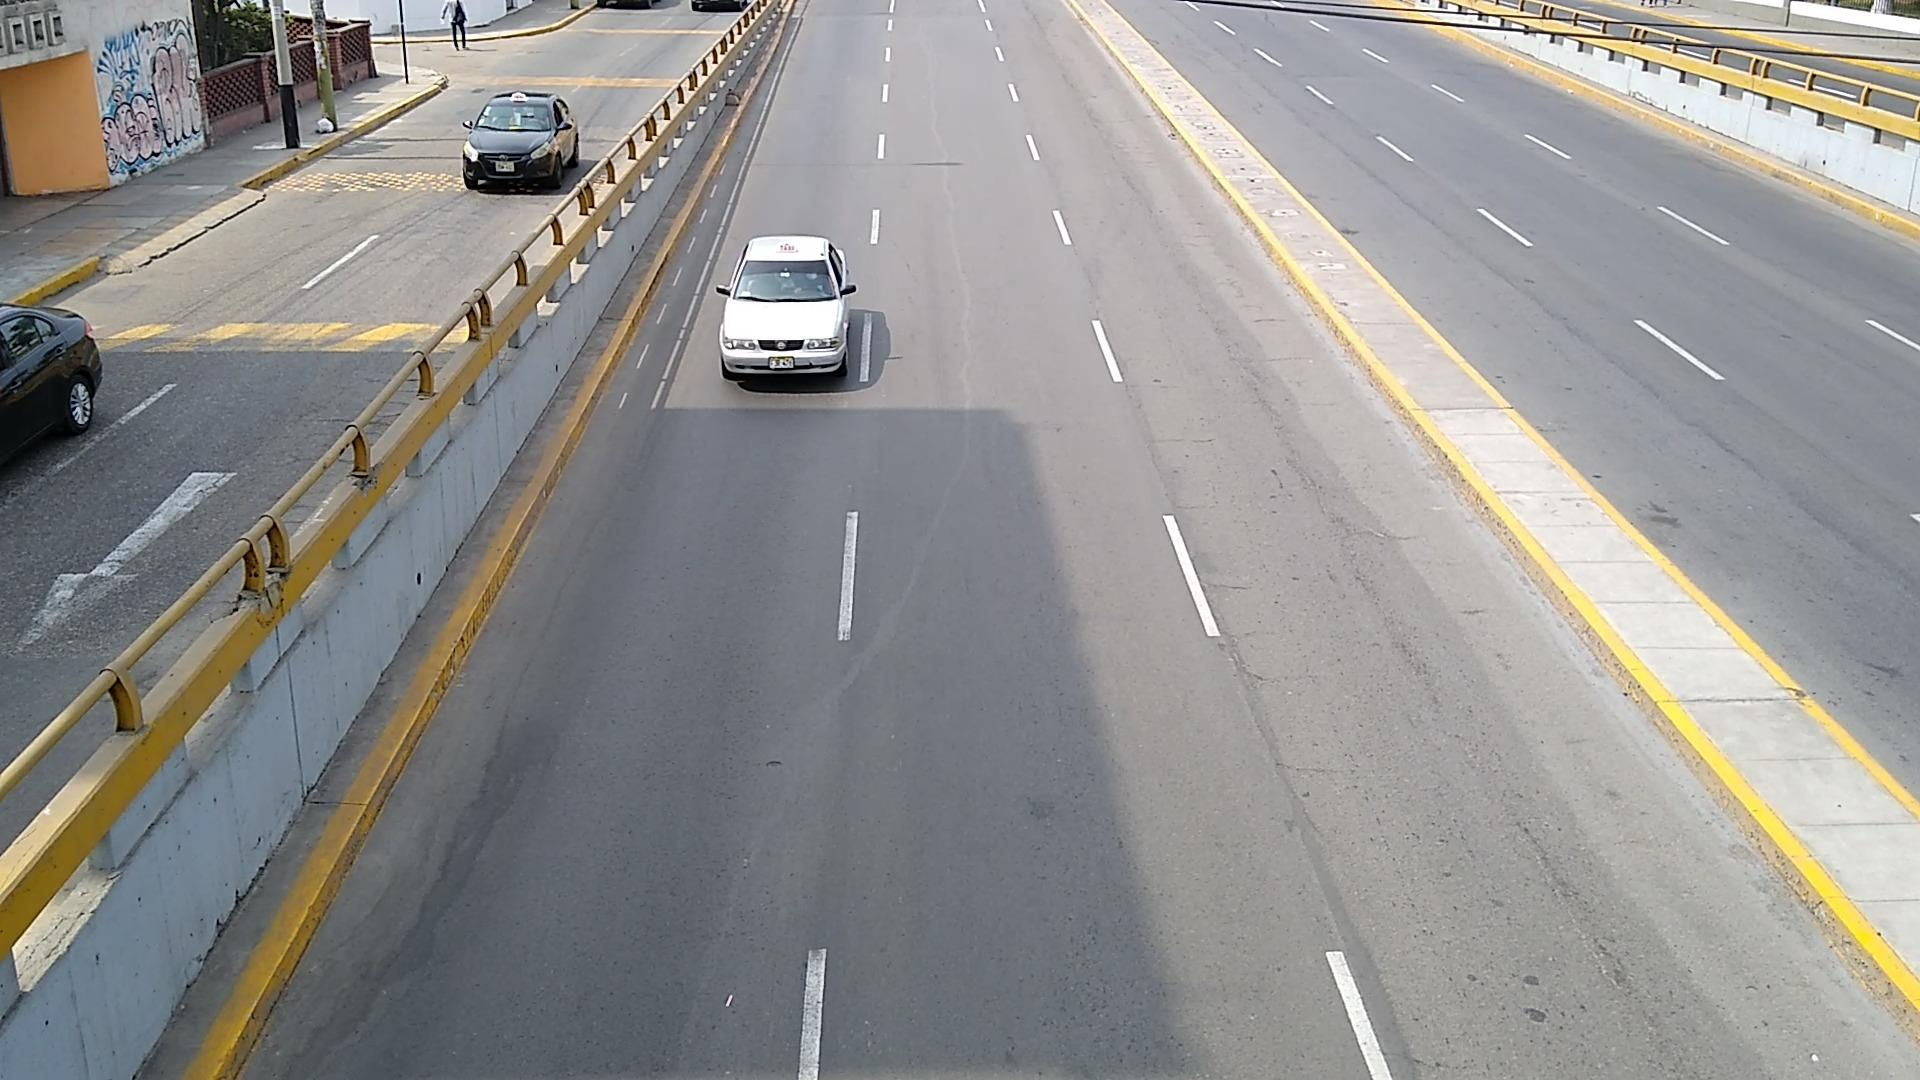car: (716, 236, 855, 382), (0, 303, 102, 463), (462, 90, 578, 186)
